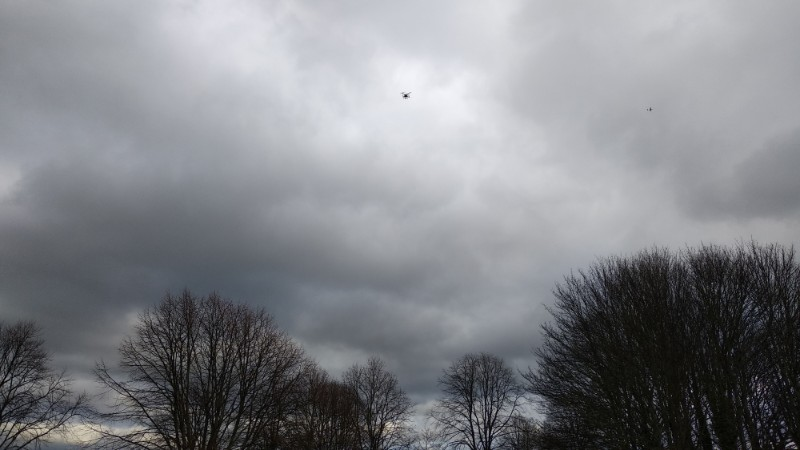drone: (400, 90, 413, 100)
